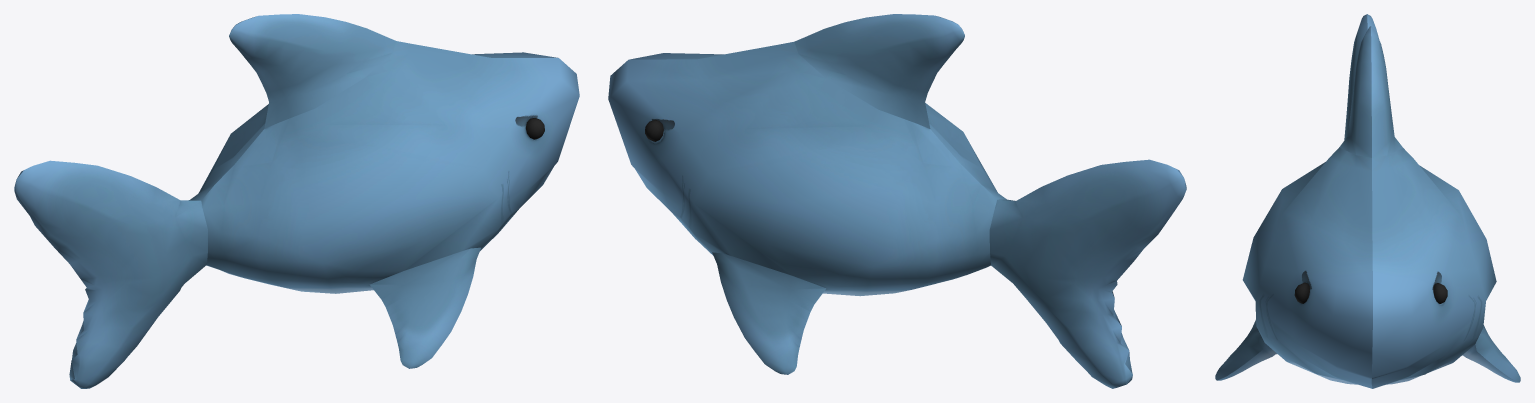
File: shark.fbx
The picture shows the model from 3 angles, left to right: view 1: azimuth 30°, elevation 25°; view 2: azimuth 150°, elevation 25°; view 3: azimuth 270°, elevation 25°; orthographic projection. The views are drawn at different scales.
Visible parts, largest first — view 1: shark; view 2: shark; view 3: shark.
Part boxes in pixels (bbox=[...]): shark: bbox=[14, 14, 579, 388]; shark: bbox=[608, 14, 1186, 388]; shark: bbox=[1215, 14, 1520, 388].
Bounding box in the file's own units: 30.56 × 16.83 × 14.6.
Materials: 1 (1 with a texture image).
